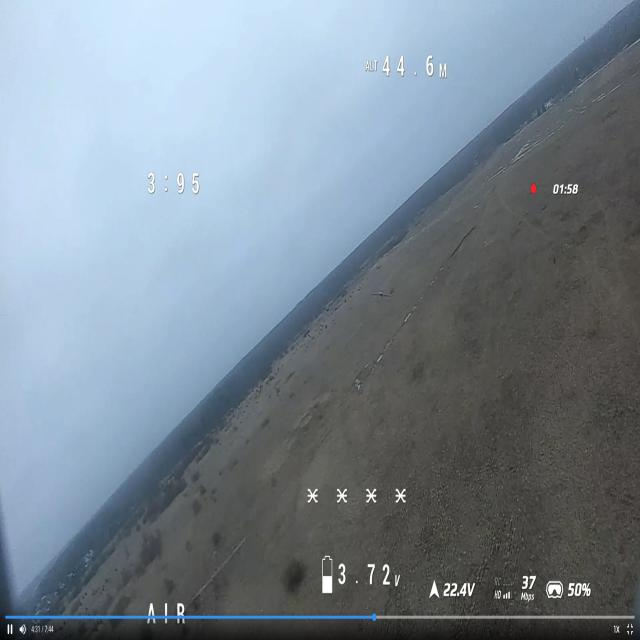planedrone: (369, 289, 394, 299)
